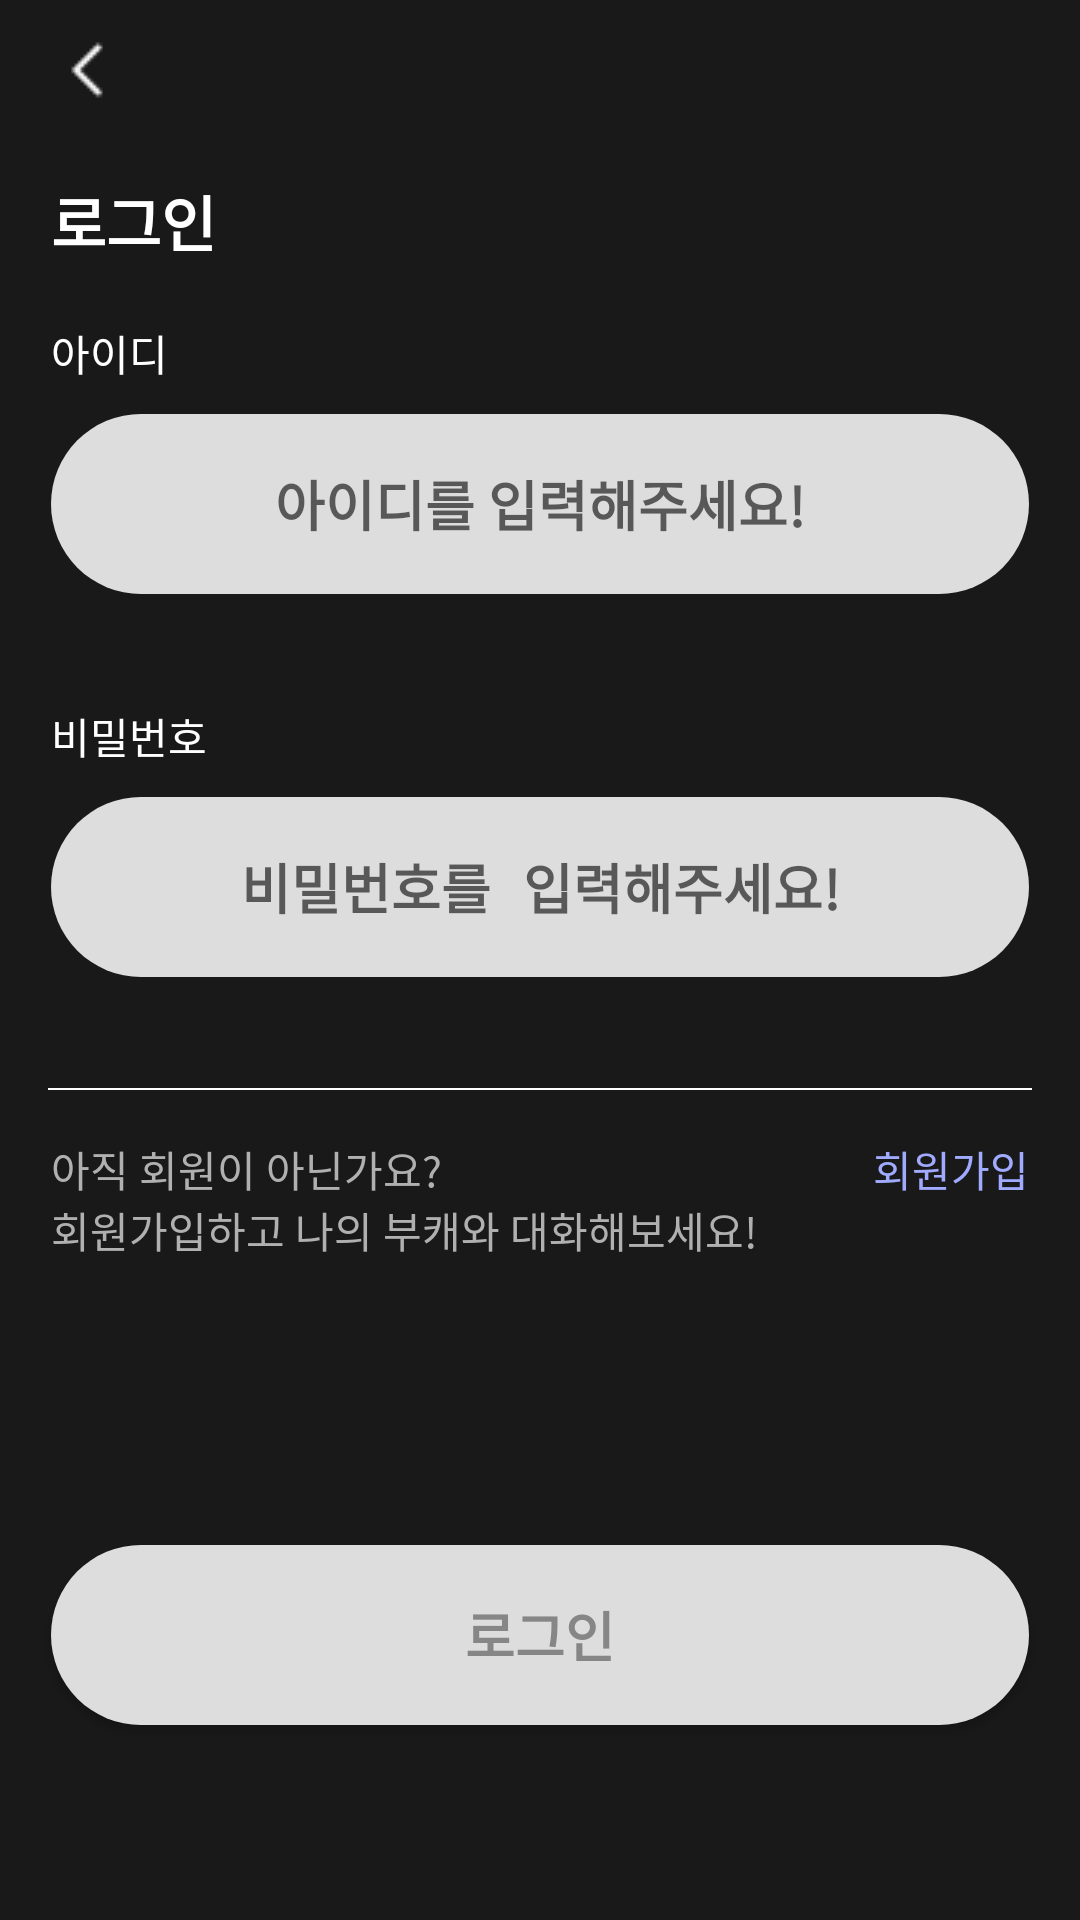

Where icons sit on this 1080*1920 app screen, as Rect(x1, y1, x2, y2):
back: Rect(71, 42, 103, 98)
